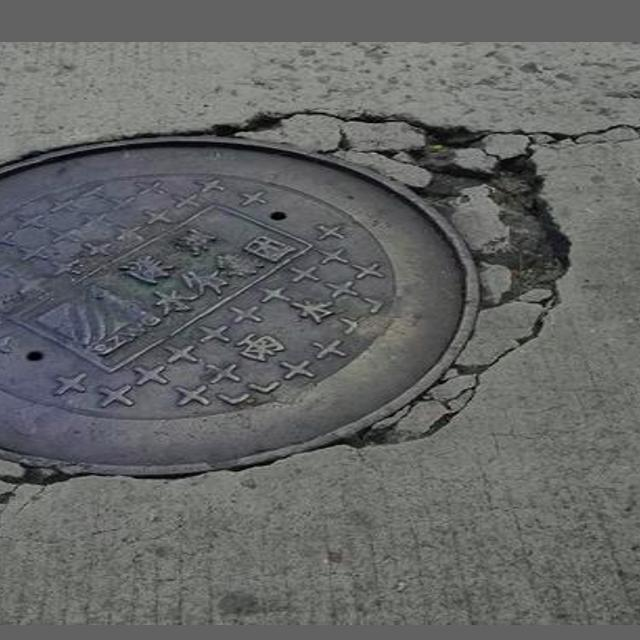circle: (0, 95, 586, 509)
